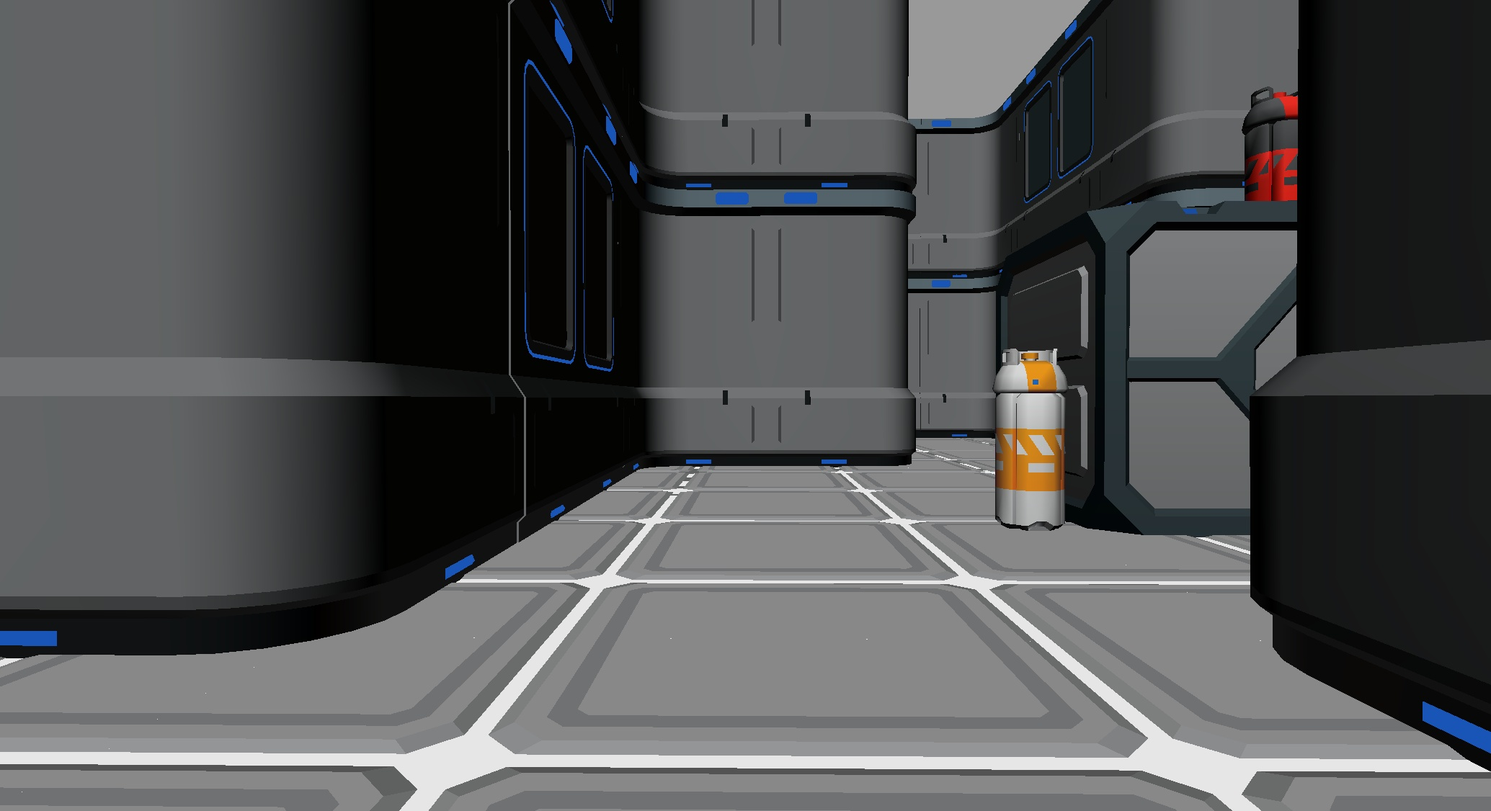red_barrel: (1242, 87, 1297, 200)
yellow_barrel: (994, 349, 1065, 529)
